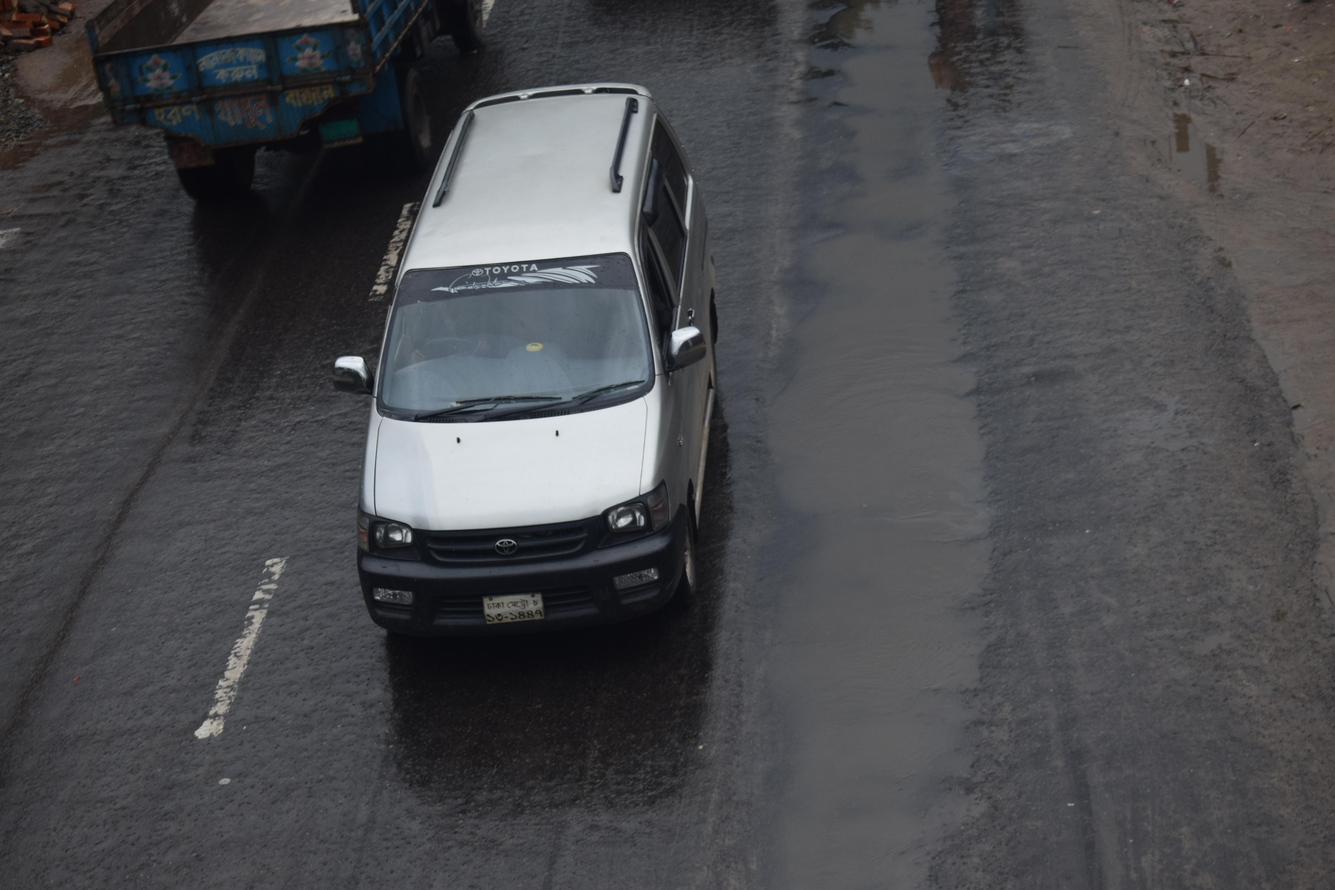Car: (295, 49, 812, 695)
Truck: (63, 0, 516, 234)
